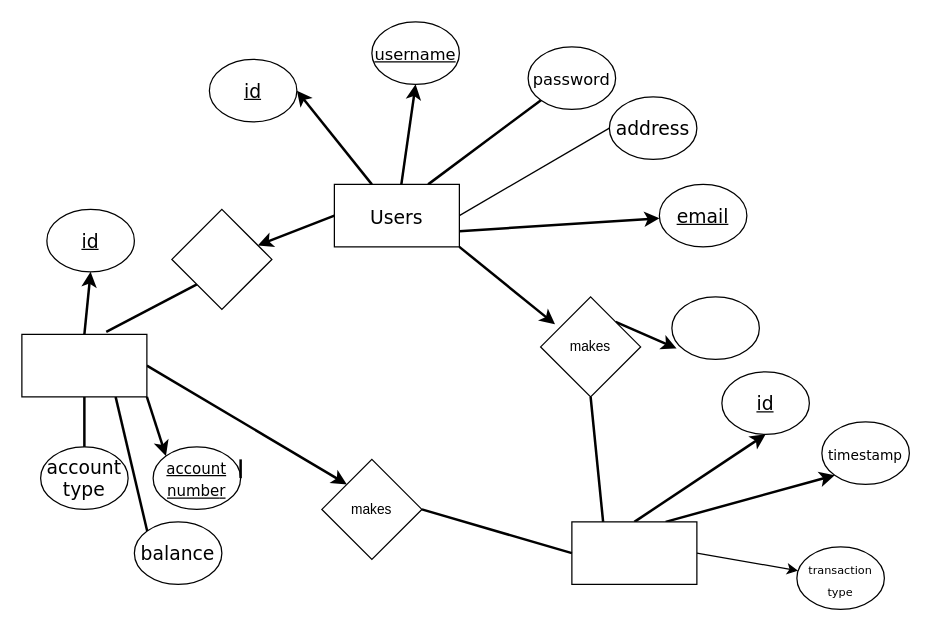
This 931x631 diagram has some shape labels left out. The centre of each missing label's shape, as x and y in pixels:
account: the point at 84,365
has: the point at 221,258
transaction id: the point at 715,327
transactions: the point at 634,552
